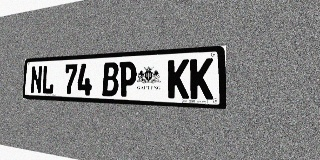4: (77, 63, 92, 96)
7: (63, 64, 78, 95)
B: (102, 62, 119, 96)
K: (190, 58, 213, 100), (168, 59, 189, 99)
L: (42, 65, 55, 94)
N: (30, 66, 42, 94)
P: (119, 61, 137, 97)
